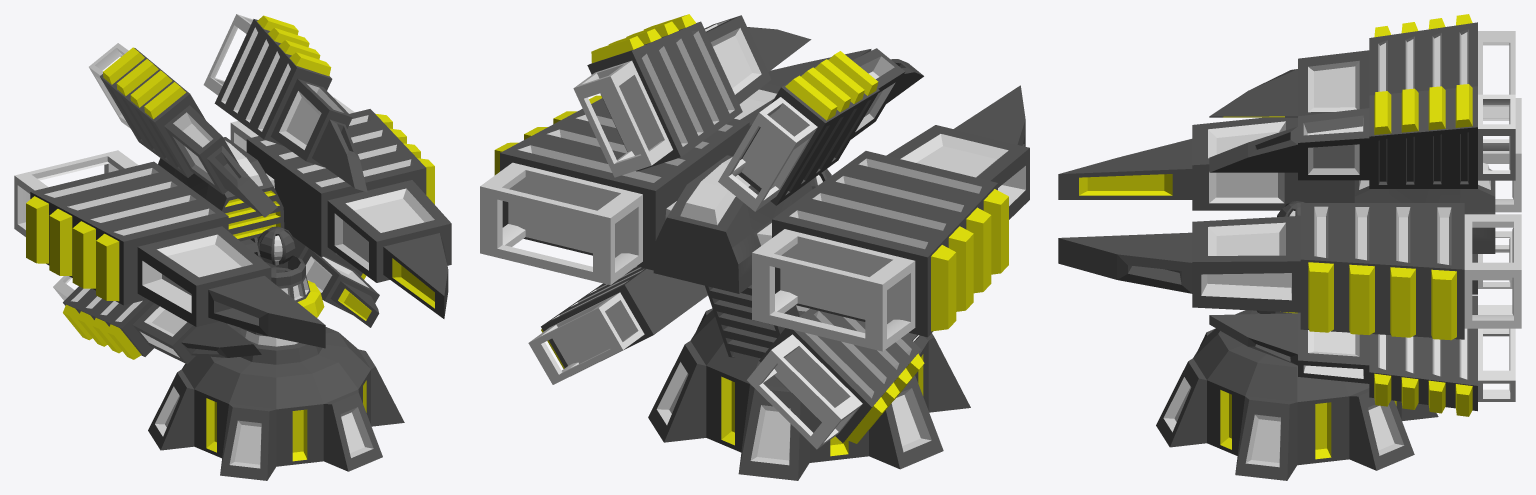
Rendered from tower9_3.fbx.
3 views of the same model, side by side, from view 1: azimuth 30°, elevation 25°; view 2: azimuth 150°, elevation 25°; view 3: azimuth 270°, elevation 25° (orthographic). The views are drawn at different scales.
Visible parts, largest first — view 1: polySurface75; view 2: polySurface75; view 3: polySurface75.
Boxes of the visible parts, bbox=[...] form: polySurface75: bbox=[14, 14, 451, 480]; polySurface75: bbox=[480, 14, 1029, 480]; polySurface75: bbox=[1058, 14, 1521, 480].
Size of the model in its own units: 0.9649 by 0.8644 by 0.9754.
